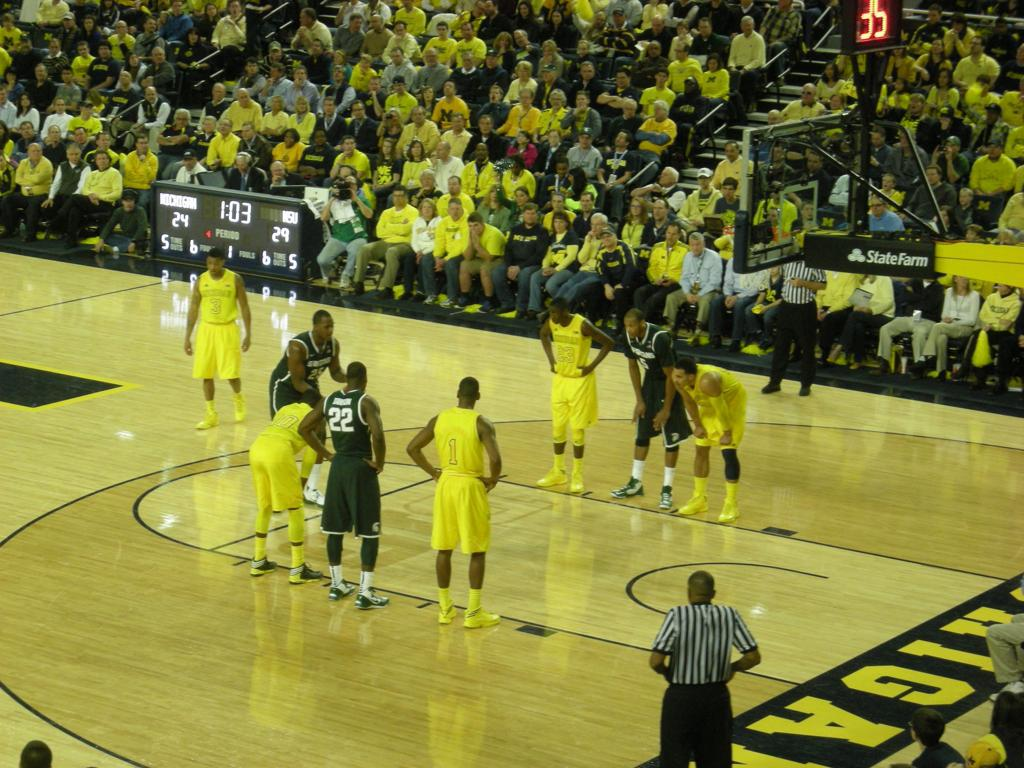face: (318, 318, 334, 340), (673, 369, 689, 391), (953, 275, 971, 294), (207, 256, 222, 277), (938, 110, 952, 131), (625, 318, 640, 337), (342, 171, 354, 194), (772, 145, 785, 166), (550, 306, 563, 325), (591, 217, 605, 234), (699, 20, 712, 38), (553, 217, 568, 231), (873, 127, 883, 148), (987, 143, 1001, 158), (986, 108, 997, 127), (654, 202, 666, 219), (804, 86, 815, 104), (654, 105, 666, 121), (666, 227, 678, 243), (927, 169, 939, 185), (521, 91, 532, 108), (945, 140, 956, 157), (353, 105, 366, 119), (691, 241, 704, 255), (552, 92, 564, 107), (576, 95, 588, 110), (393, 190, 405, 205), (551, 195, 563, 210), (661, 170, 673, 185), (809, 152, 819, 170), (873, 198, 883, 216), (768, 113, 779, 129), (977, 80, 988, 96), (727, 145, 738, 161), (967, 227, 980, 240), (412, 110, 424, 124), (767, 210, 779, 224), (616, 133, 628, 147), (618, 72, 629, 87), (324, 100, 335, 115), (492, 87, 503, 102), (515, 191, 526, 206), (700, 175, 711, 190), (236, 157, 247, 172), (583, 65, 594, 80), (242, 126, 253, 141), (938, 71, 948, 87), (970, 39, 980, 55), (940, 211, 950, 227), (625, 104, 636, 118), (480, 118, 491, 132), (448, 182, 459, 196), (422, 203, 433, 217), (97, 154, 108, 168), (30, 146, 41, 160), (450, 203, 460, 218), (239, 92, 249, 107), (295, 68, 305, 83), (299, 12, 309, 27), (453, 116, 462, 132), (708, 58, 717, 74), (603, 234, 615, 246), (35, 67, 46, 80), (961, 191, 972, 204), (422, 176, 432, 190), (882, 175, 892, 189), (823, 65, 833, 79), (178, 113, 188, 127), (69, 150, 79, 164), (75, 130, 85, 144), (583, 194, 592, 209), (633, 202, 642, 217), (743, 19, 752, 34), (805, 204, 814, 219), (100, 135, 109, 150), (139, 139, 148, 154), (344, 141, 355, 153), (476, 146, 487, 158), (470, 224, 481, 236), (525, 211, 536, 223), (392, 52, 403, 64), (516, 34, 527, 46), (996, 23, 1007, 35), (549, 132, 559, 145), (724, 186, 734, 199), (285, 132, 294, 146), (311, 41, 320, 55), (487, 55, 496, 69), (931, 42, 942, 53), (272, 167, 283, 178), (6, 73, 17, 84), (558, 164, 568, 176), (685, 79, 693, 94), (21, 125, 31, 137), (462, 26, 472, 38), (650, 45, 660, 57), (543, 70, 553, 82), (485, 2, 495, 14), (676, 48, 686, 60), (771, 187, 781, 199), (582, 134, 591, 147), (912, 100, 921, 113), (221, 120, 230, 133), (297, 100, 306, 113), (316, 133, 325, 146), (83, 105, 92, 118), (553, 12, 562, 25), (383, 142, 391, 156), (492, 189, 500, 203), (596, 16, 604, 30), (832, 97, 840, 111), (428, 52, 436, 66), (520, 66, 528, 80), (953, 19, 963, 30), (446, 84, 455, 96), (412, 144, 421, 156), (438, 147, 447, 159), (100, 46, 109, 58), (51, 129, 60, 141), (437, 26, 446, 38), (476, 4, 485, 16), (518, 132, 526, 145), (895, 79, 903, 92), (124, 196, 132, 209), (372, 17, 380, 30), (654, 20, 662, 33), (501, 37, 509, 50), (579, 43, 587, 56), (394, 83, 405, 92), (424, 90, 433, 101), (51, 42, 60, 53), (62, 71, 71, 82), (929, 12, 938, 23), (117, 24, 126, 35), (155, 51, 164, 62), (207, 6, 216, 17), (543, 49, 552, 60), (658, 72, 666, 84), (57, 101, 65, 113), (213, 87, 221, 99), (271, 66, 279, 78), (272, 99, 280, 111), (231, 5, 239, 17), (353, 18, 361, 30), (396, 26, 404, 38), (464, 56, 472, 68), (148, 18, 155, 31), (389, 114, 398, 124), (21, 39, 30, 49), (21, 96, 30, 106), (120, 74, 129, 84), (147, 92, 156, 102), (248, 63, 257, 73), (334, 54, 343, 64), (894, 46, 903, 56), (5, 20, 14, 30), (205, 120, 213, 131), (371, 79, 378, 91), (186, 156, 193, 168), (63, 18, 72, 27), (678, 28, 686, 38), (130, 56, 138, 66), (272, 49, 280, 59), (521, 5, 528, 16), (85, 21, 93, 30), (189, 33, 197, 42), (615, 13, 623, 22), (335, 71, 343, 80), (79, 45, 86, 55), (361, 57, 368, 66), (174, 5, 182, 11)
